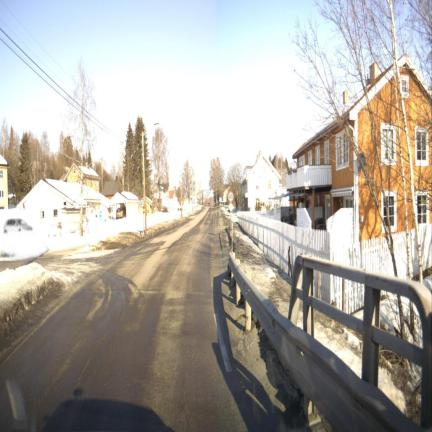Road: (0, 209, 280, 430)
